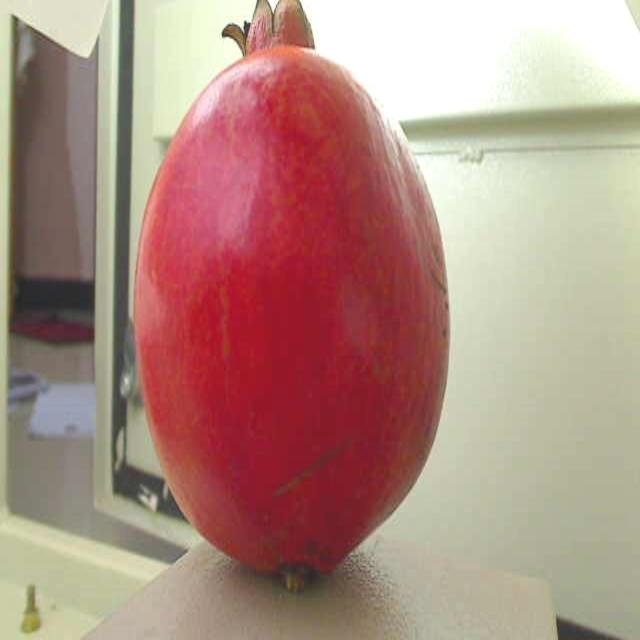pomegranate: (126, 0, 468, 606)
